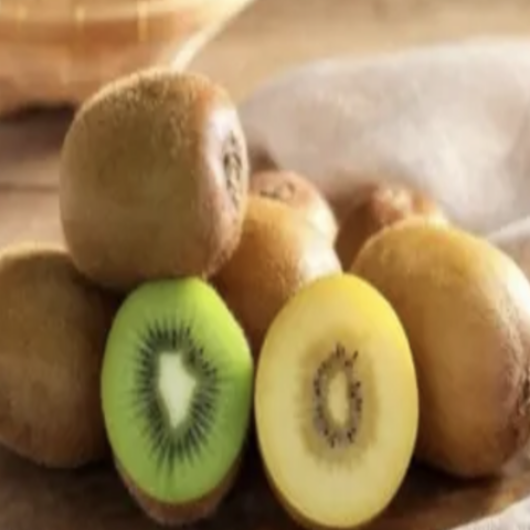kiwi: (337, 176, 530, 517), (44, 60, 264, 282)
